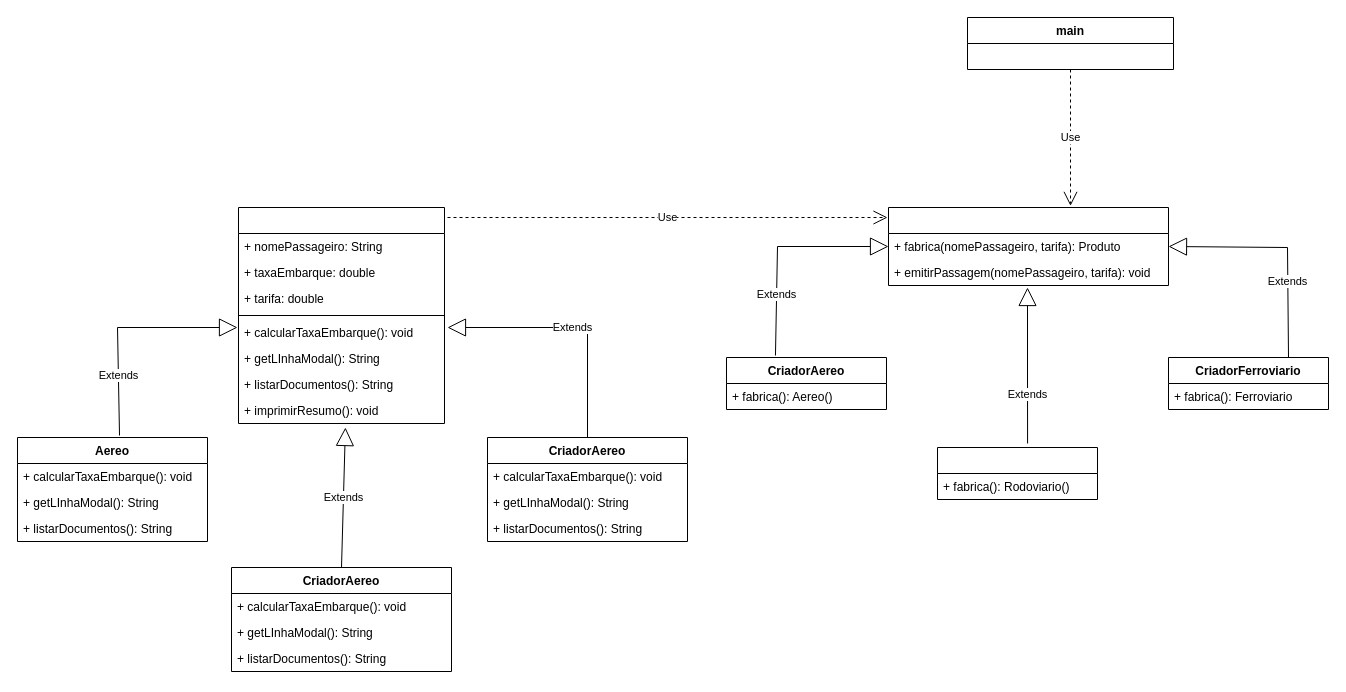
Image size: 1346x692. Some labels were removed from this diagram. Each missing label, with the box of its shape:
absCriador: (888, 206, 1168, 286)
absProduto: (238, 206, 444, 424)
CriadorRodoviario: (936, 446, 1098, 500)
